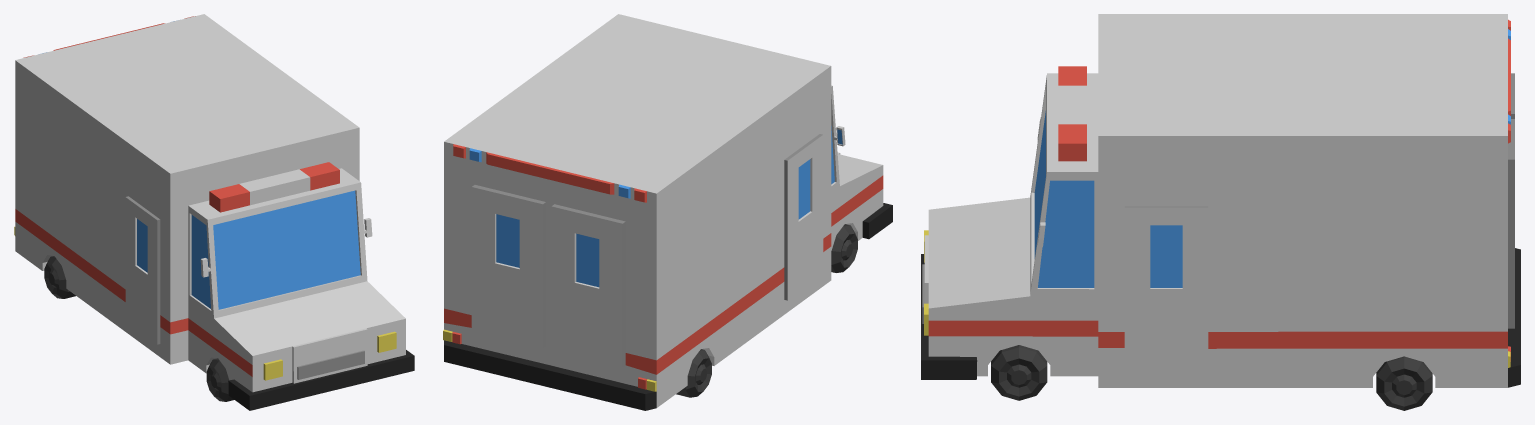
The model's file is ambulance.glb.
The picture shows the model from 3 angles, left to right: view 1: azimuth 30°, elevation 25°; view 2: azimuth 150°, elevation 25°; view 3: azimuth 270°, elevation 25°; orthographic projection. The views are drawn at different scales.
Visible parts, largest first — view 1: Ambulance, FrontWheels, BackWheels; view 2: Ambulance, FrontWheels, BackWheels; view 3: Ambulance, FrontWheels, BackWheels.
Boxes of the visible parts, left/top/right/bottom form: Ambulance: left=14, top=14, right=414, bottom=410; FrontWheels: left=206, top=358, right=234, bottom=401; BackWheels: left=44, top=256, right=75, bottom=298; Ambulance: left=443, top=14, right=892, bottom=410; FrontWheels: left=831, top=224, right=857, bottom=272; BackWheels: left=676, top=349, right=711, bottom=397; Ambulance: left=921, top=14, right=1520, bottom=387; FrontWheels: left=991, top=345, right=1047, bottom=400; BackWheels: left=1376, top=356, right=1432, bottom=410.
Bounding box in the file's own units: 2.84 × 2.91 × 5.72.
